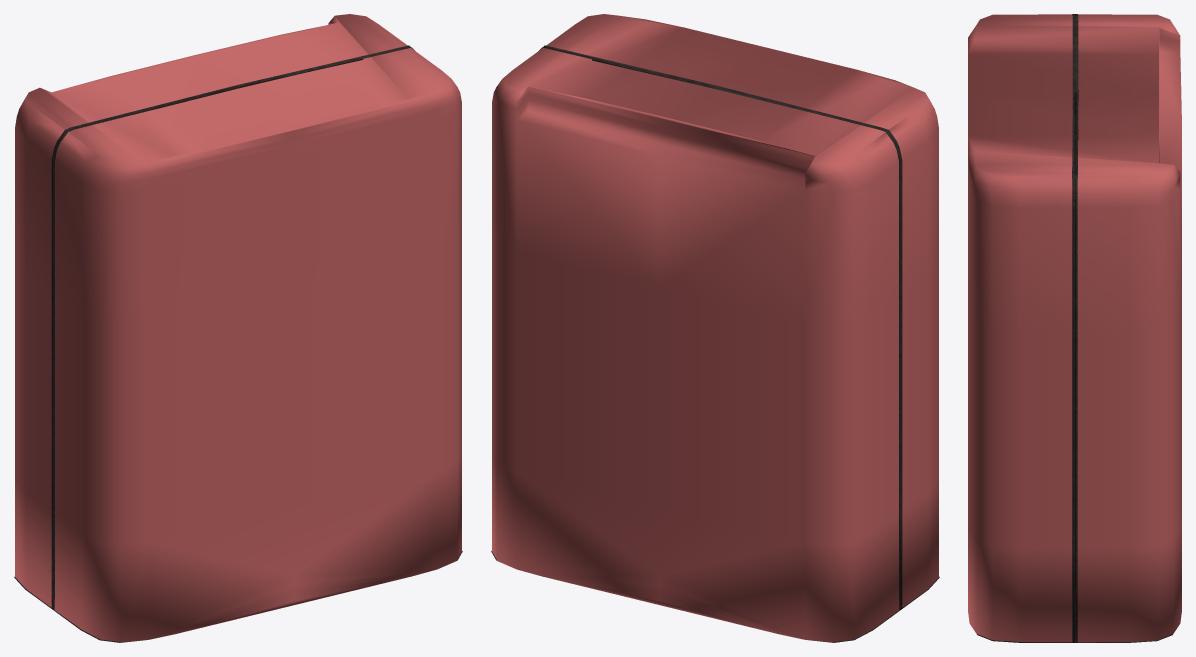
The model's file is mala_base_TEXTURIZADA.fbx.
The picture shows the model from 3 angles, left to right: view 1: azimuth 30°, elevation 25°; view 2: azimuth 150°, elevation 25°; view 3: azimuth 270°, elevation 25°; orthographic projection. The views are drawn at different scales.
Visible parts, largest first — view 1: mala; view 2: mala; view 3: mala.
Boxes of the visible parts, bbox=[...] form: mala: bbox=[14, 14, 462, 642]; mala: bbox=[491, 14, 939, 642]; mala: bbox=[968, 14, 1181, 642].
Bounding box in the file's own units: 51.98 × 64.15 × 26.86.
Materials: 1 (1 with a texture image).
